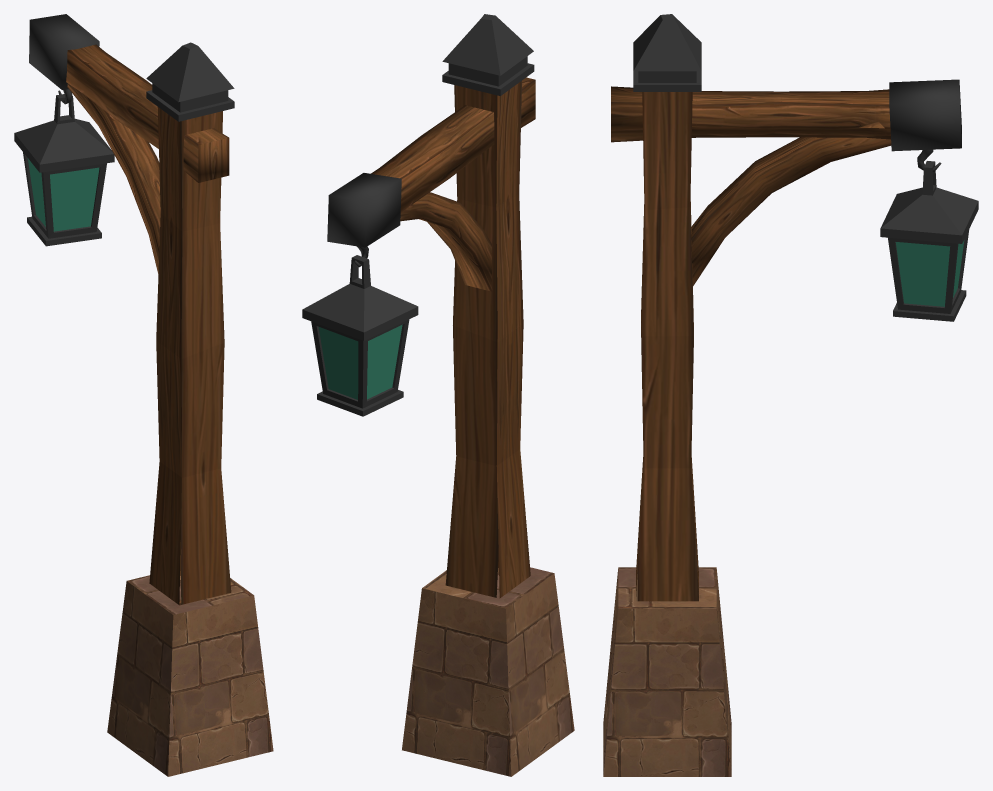
The model's file is LampA.fbx.
3 renders of one model, left to right at view 1: azimuth 30°, elevation 25°; view 2: azimuth 150°, elevation 25°; view 3: azimuth 270°, elevation 25°, orthographic. The views are drawn at different scales.
Visible parts, largest first — view 1: LampA.001; view 2: LampA.001; view 3: LampA.001.
Part boxes in pixels (x1,y1,x2,y2): LampA.001: [14, 14, 273, 776]; LampA.001: [302, 14, 574, 776]; LampA.001: [603, 14, 978, 776].
Bounding box in the file's own units: 0.3351 × 2.11 × 0.9808.
Materials: 3 (2 with a texture image).
